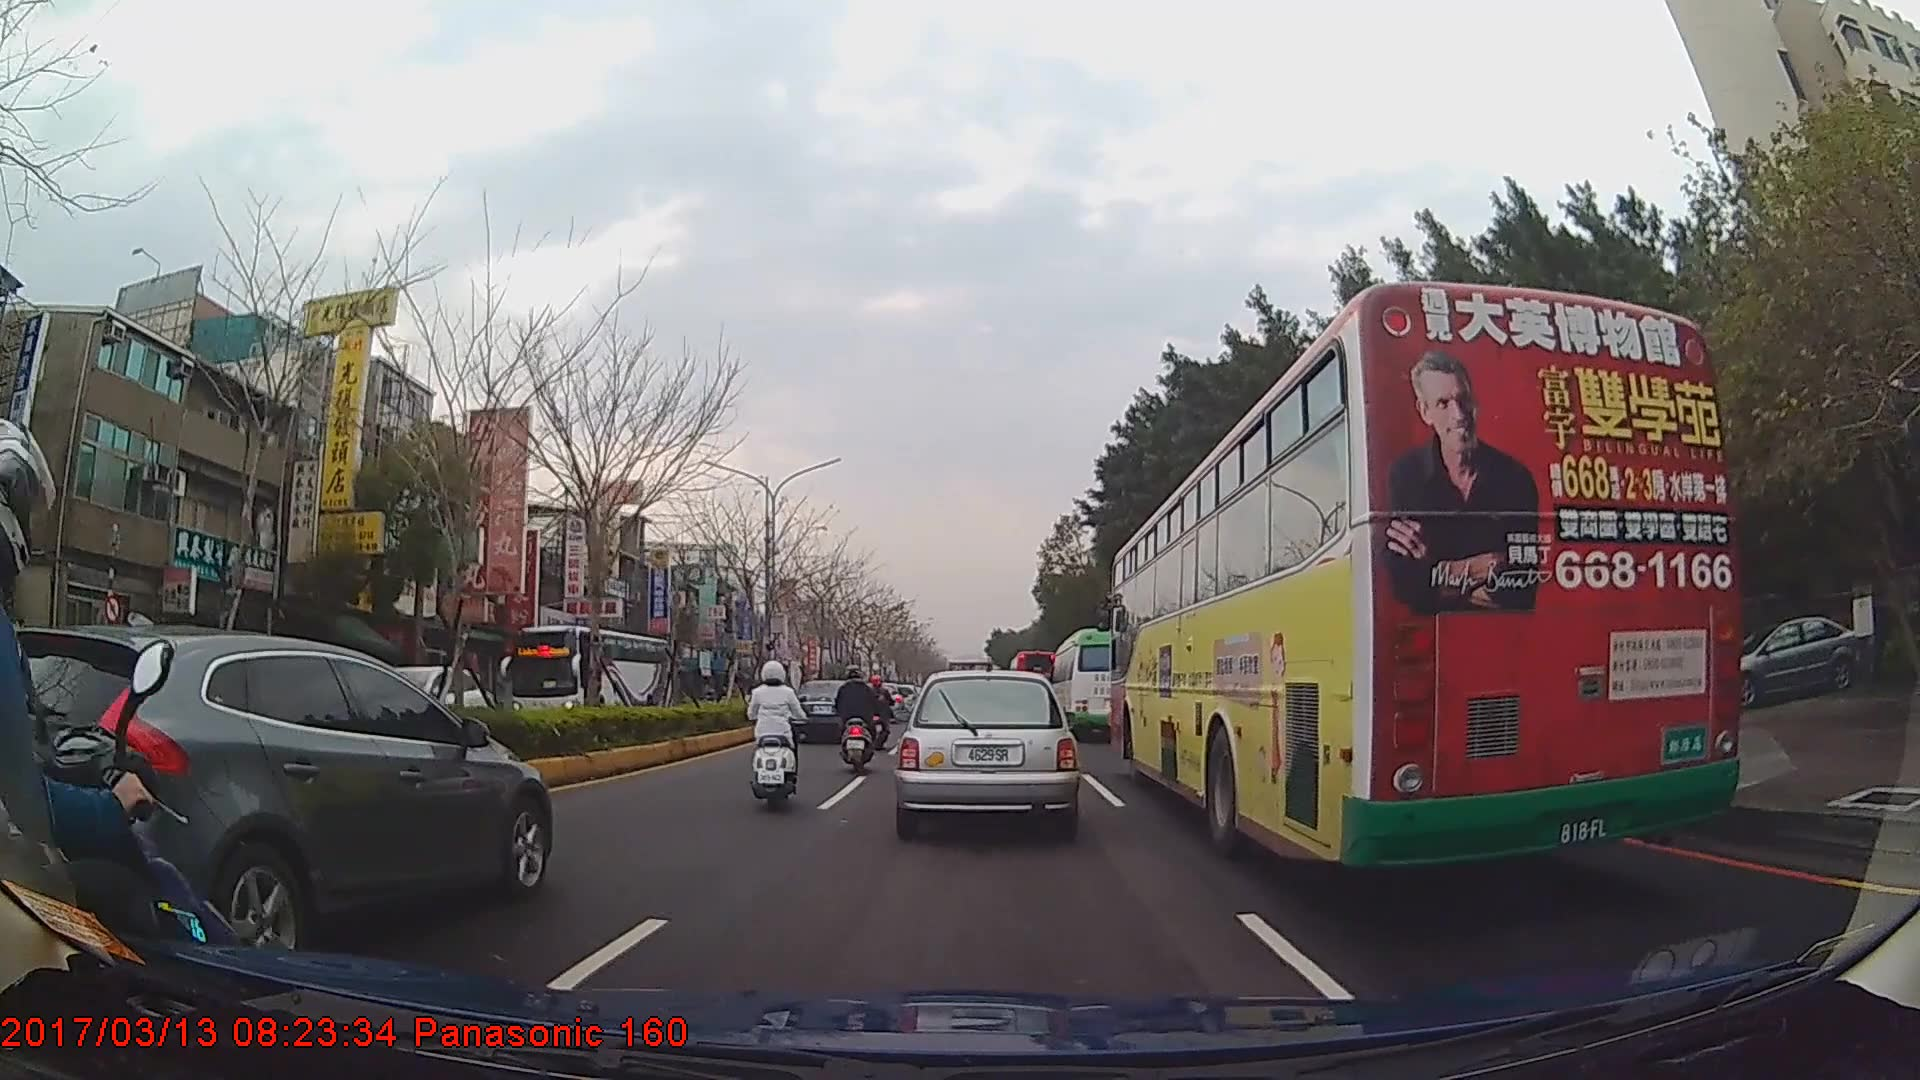rider: (1, 429, 261, 1077), (745, 658, 807, 815), (831, 664, 884, 762), (867, 677, 893, 753)
vehicle: (1105, 284, 1740, 879), (0, 626, 555, 956), (897, 667, 1076, 839), (511, 623, 672, 731), (347, 663, 496, 742), (1051, 628, 1143, 743), (789, 680, 867, 746), (1004, 649, 1057, 722)
